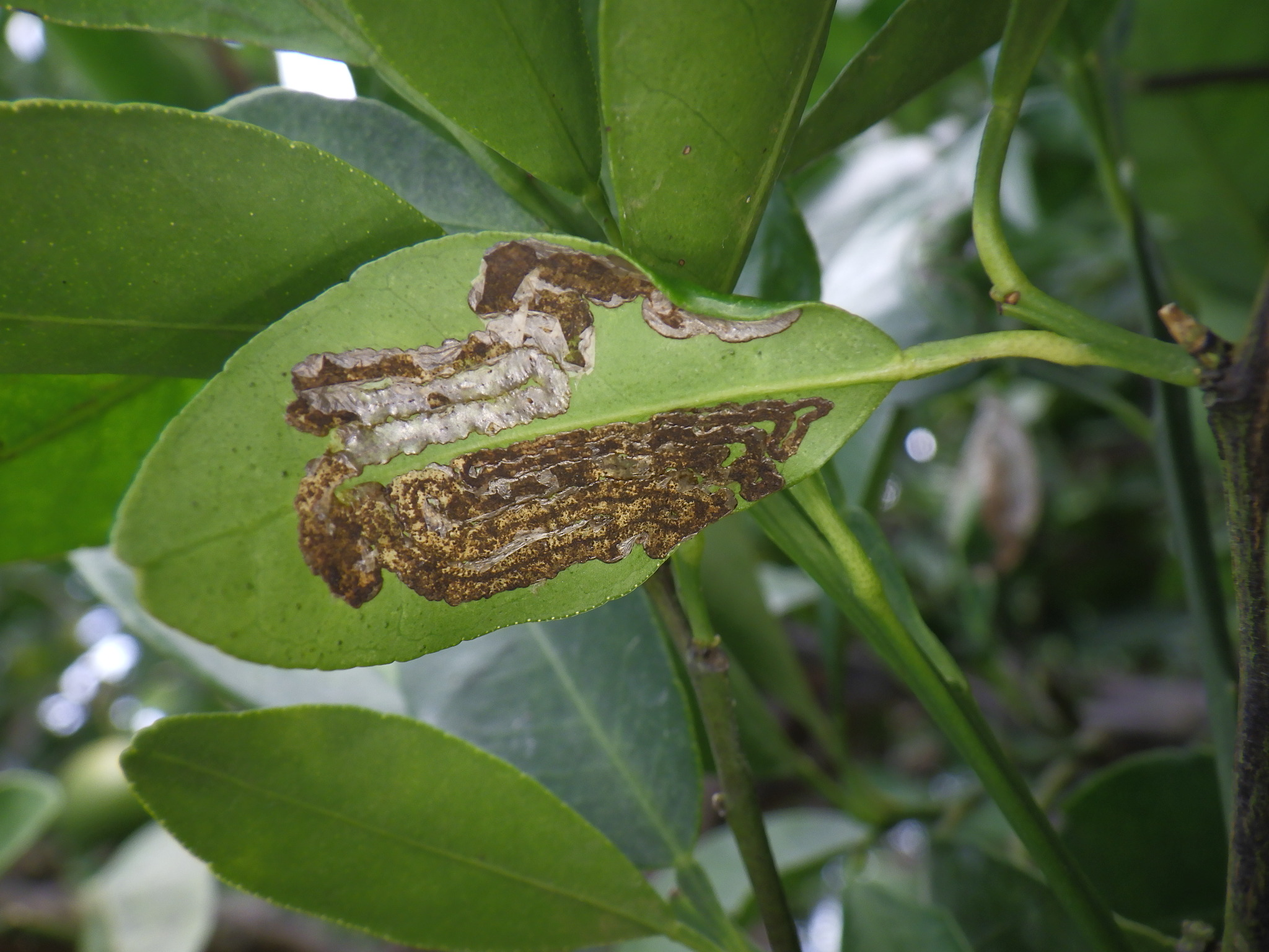Citrus_Leaf_Miner: (286, 238, 833, 607)
